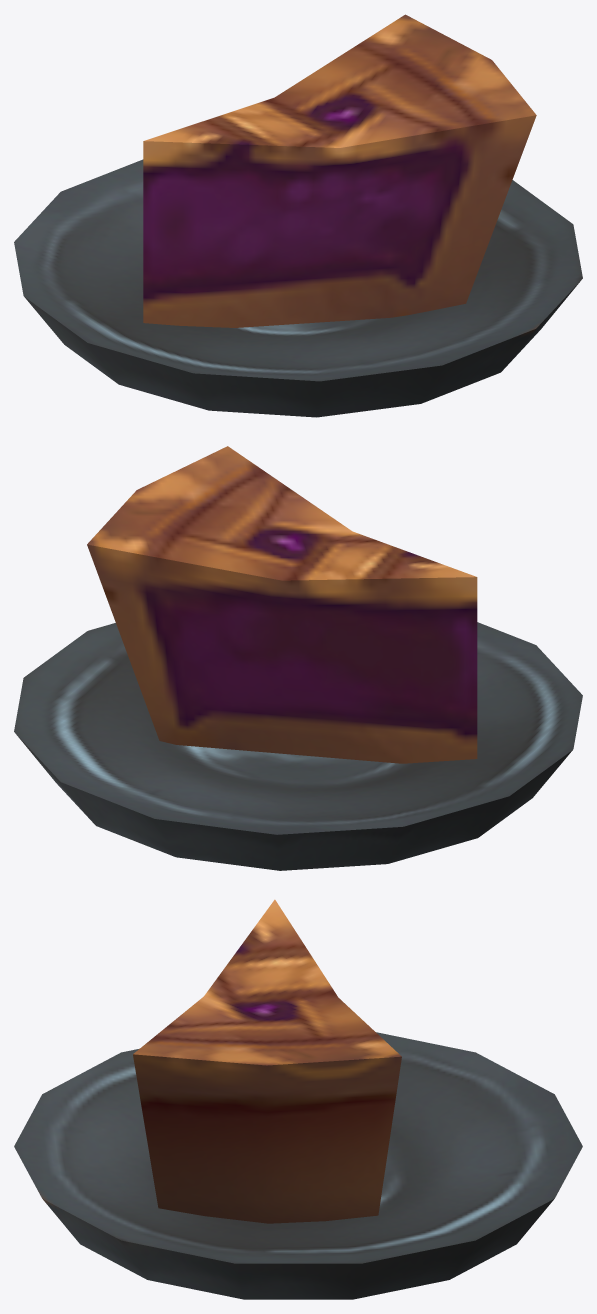
File: pie_slice.fbx
3 views of the same model, one above another, from view 1: azimuth 30°, elevation 25°; view 2: azimuth 150°, elevation 25°; view 3: azimuth 270°, elevation 25° (orthographic).
Visible parts, largest first — view 1: pie_slice; view 2: pie_slice; view 3: pie_slice.
Boxes of the visible parts, <box> form: pie_slice: <box>14,14,582,417</box>; pie_slice: <box>14,446,582,870</box>; pie_slice: <box>14,899,582,1299</box>.
Size of the model in its own units: 36.39 by 15.93 by 37.32.
